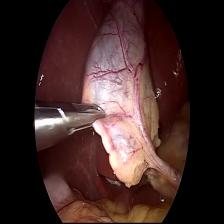Grasper: (34, 102, 109, 150)
